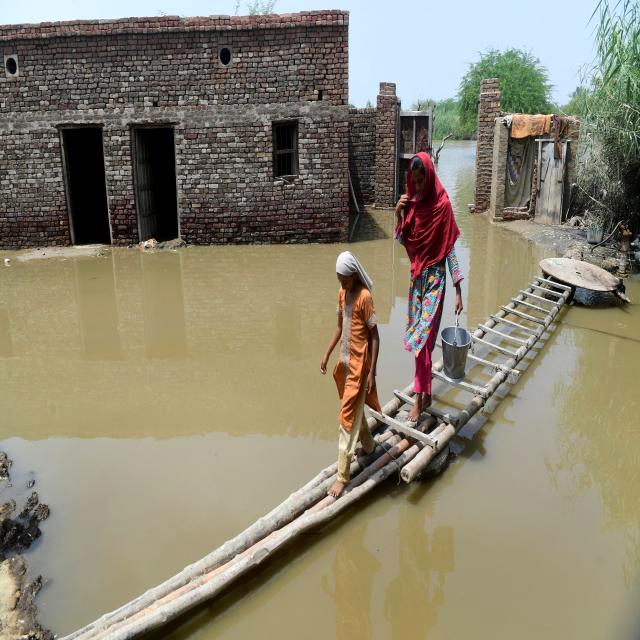civilian: (308, 241, 379, 500), (395, 154, 462, 422)
